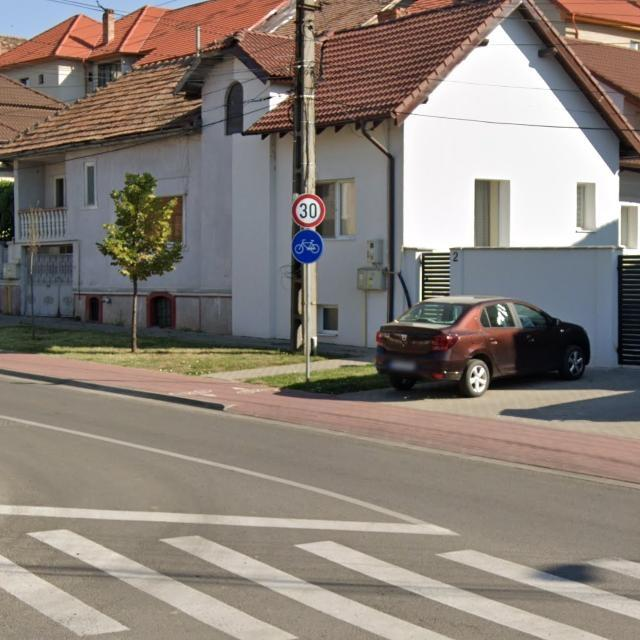forb_speed_over_30: (293, 195, 325, 228)
